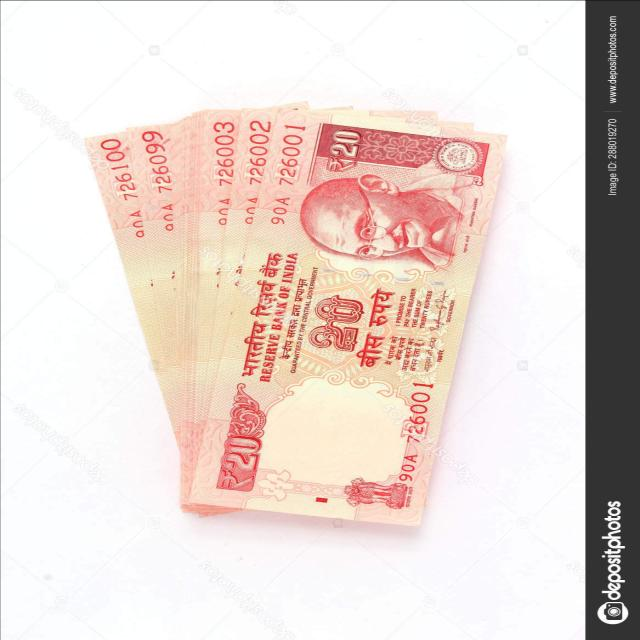20IndianRupees: (200, 111, 510, 523)
